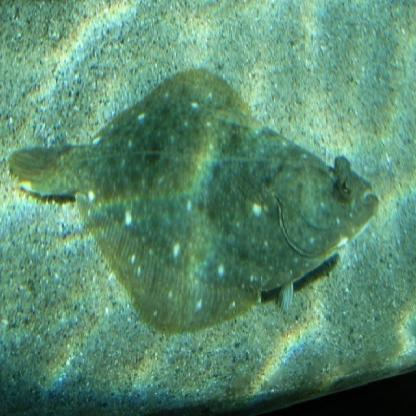flounder: (8, 49, 384, 341)
